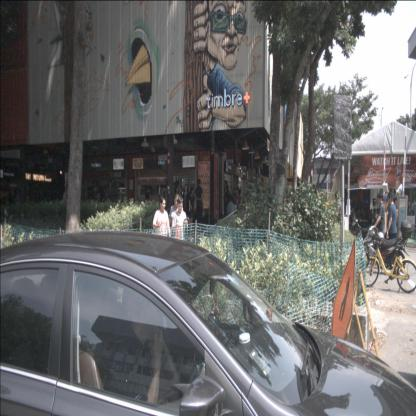human-pedestrian-adult: (387, 193, 399, 265), (152, 196, 170, 239), (172, 198, 188, 242), (374, 194, 386, 240), (170, 192, 184, 229), (195, 180, 205, 219), (334, 190, 343, 224), (182, 183, 190, 217), (172, 184, 181, 210), (189, 186, 195, 222), (225, 185, 231, 211), (227, 197, 236, 214), (237, 188, 242, 206), (234, 196, 239, 212), (145, 187, 150, 201)
vehicle-bicycle: (362, 226, 416, 296)
vehicle-car: (0, 230, 416, 416)
vehicle-motorcycle: (362, 217, 414, 275), (348, 207, 379, 252)
